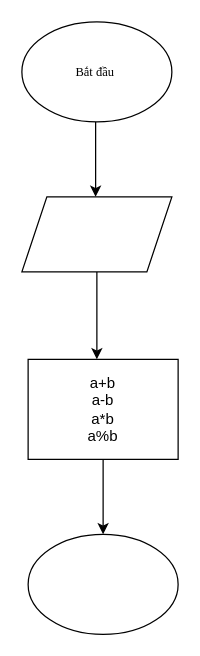
Image size: 200x656. Some labels were removed from this diagram. Each missing label, with the centre of its shape:
End: pixel 102 583
Nhập a,b a,b !=0: pixel 96 234
